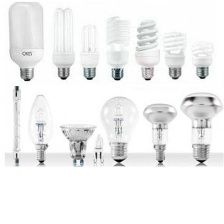light_bulb: (177, 90, 224, 175), (95, 93, 142, 169), (4, 1, 46, 82), (138, 98, 180, 170), (22, 90, 56, 171), (55, 119, 99, 171), (49, 3, 77, 81), (103, 13, 132, 81), (132, 18, 161, 83), (160, 26, 188, 82), (8, 82, 24, 171), (78, 22, 101, 81), (188, 38, 217, 80), (88, 132, 107, 169)
